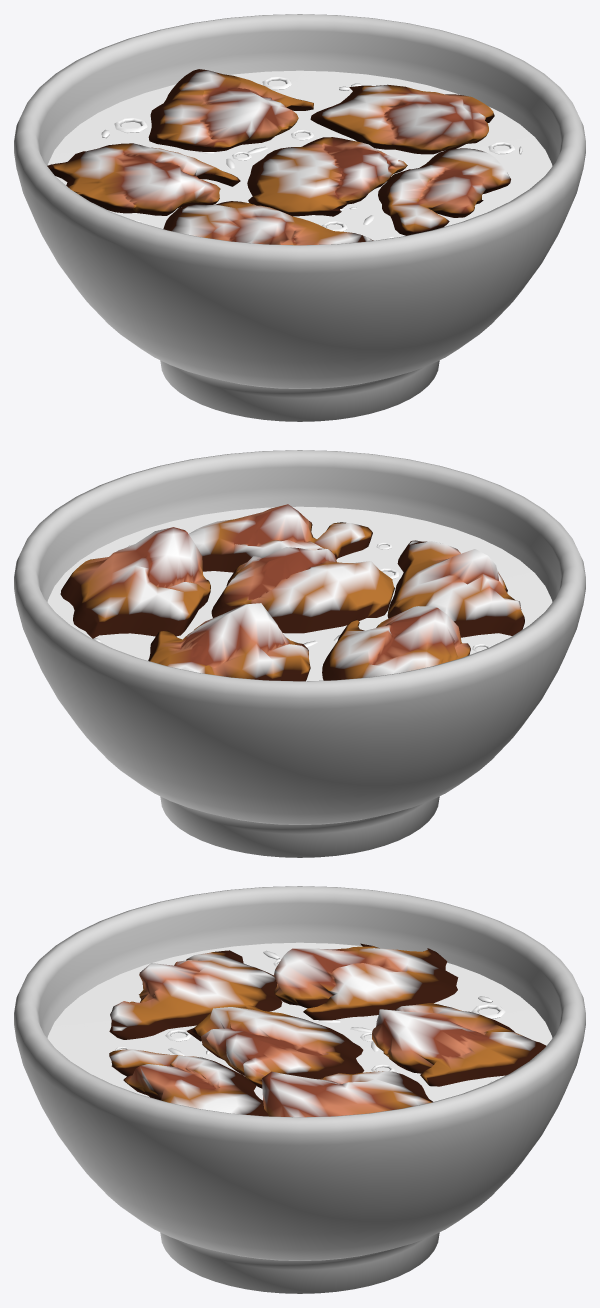
3 renders of one model, top to bottom at view 1: azimuth 30°, elevation 25°; view 2: azimuth 150°, elevation 25°; view 3: azimuth 270°, elevation 25°, orthographic.
Parts seen in each view (by area): view 1: SM_D03; view 2: SM_D03; view 3: SM_D03.
Boxes of the visible parts, bbox=[...] form: SM_D03: bbox=[14, 14, 585, 421]; SM_D03: bbox=[14, 450, 585, 857]; SM_D03: bbox=[14, 886, 585, 1293].
Bounding box in the file's own units: 0.175 × 0.0792 × 0.175.
